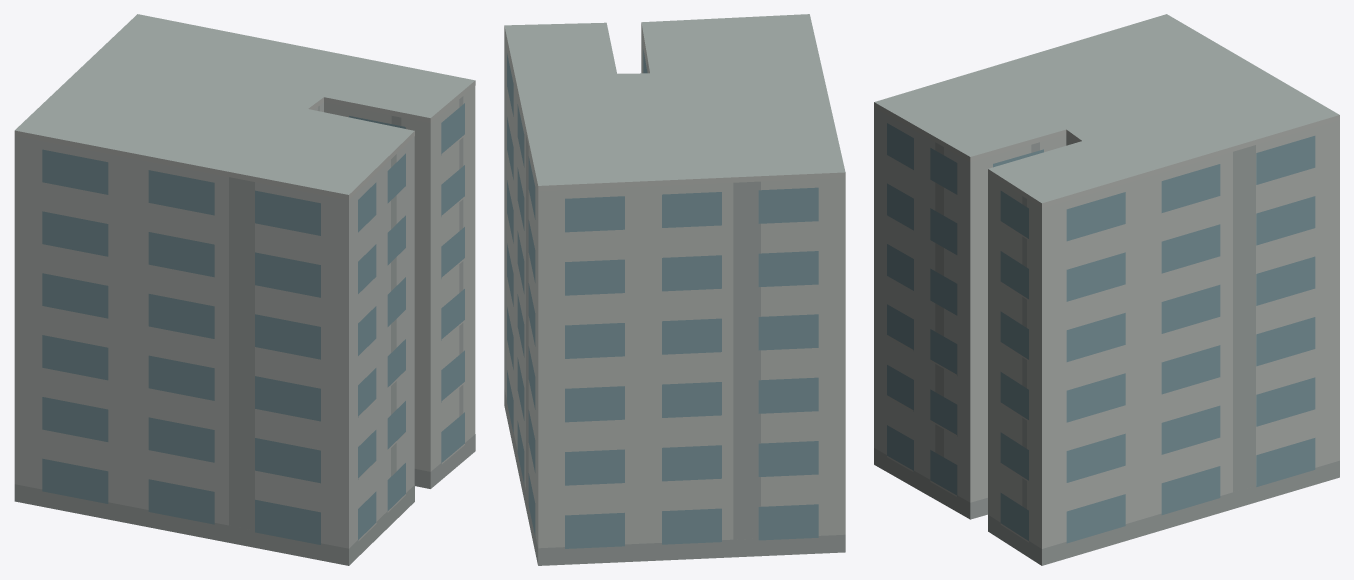
File: survey-upis-32802914.glb
3 views of the same model, side by side, from view 1: azimuth 30°, elevation 25°; view 2: azimuth 150°, elevation 25°; view 3: azimuth 270°, elevation 25° (orthographic). The views are drawn at different scales.
Parts seen in each view (by area): view 1: survey-upis-32802914.tmp; view 2: survey-upis-32802914.tmp; view 3: survey-upis-32802914.tmp.
Part boxes in pixels (x1,y1,x2,y2): survey-upis-32802914.tmp: [14, 14, 475, 565]; survey-upis-32802914.tmp: [504, 14, 845, 565]; survey-upis-32802914.tmp: [874, 14, 1339, 565].
Size of the model in its own units: 19.27 by 17.2 by 20.03.
